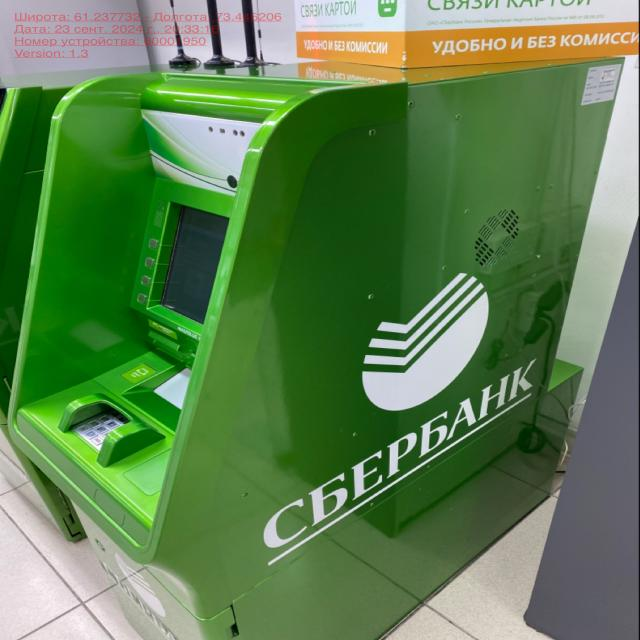bank: (7, 51, 640, 640), (0, 56, 243, 541)
